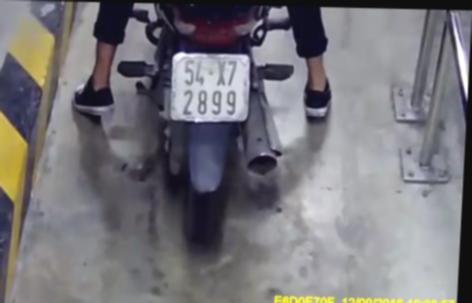License_Plate: (165, 48, 259, 129)
